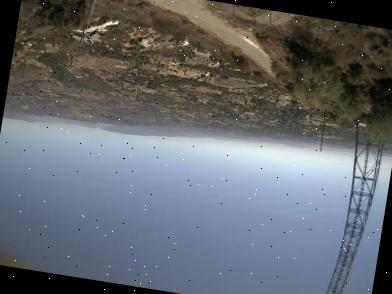smoke: (76, 118, 114, 134)
